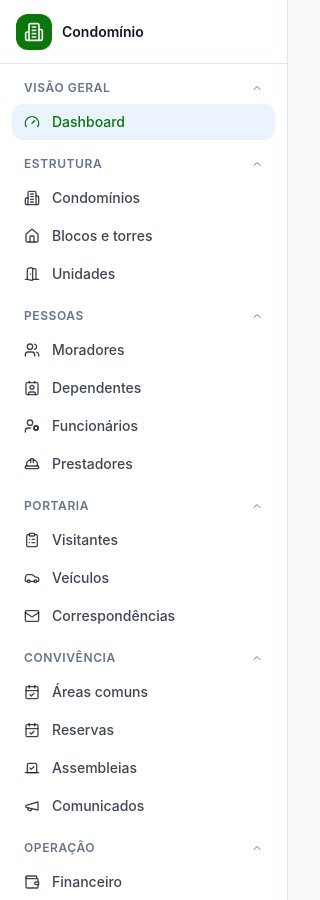
it: Sidebar — Desktop › clicar na seção alterna visibilidade
Check: the text "Dashboard" is shown, box x1=52 y1=112 x2=125 y2=132
Step 1. Click the button "Visão geral" → (67, 88), box x1=12 y1=80 x2=275 y2=104
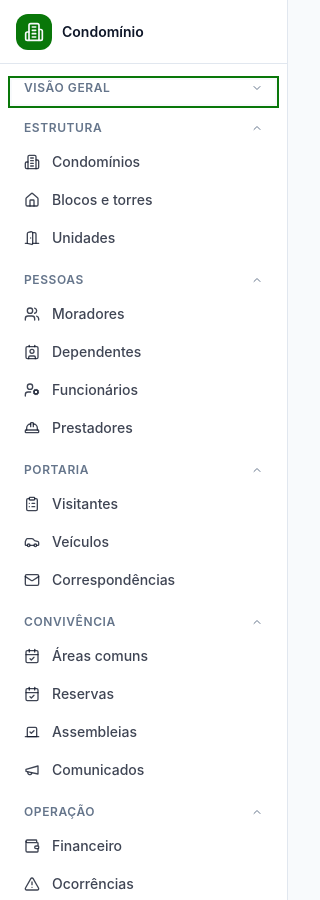
Check: the link "Dashboard" is gone
